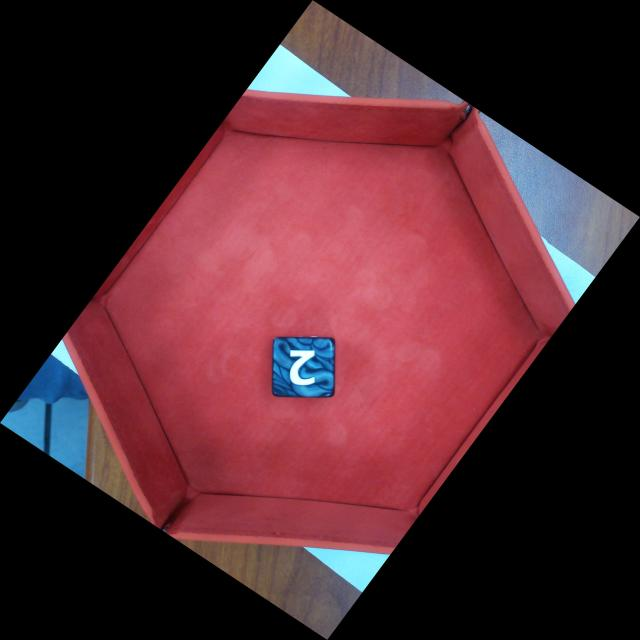dice: (272, 337, 334, 395)
